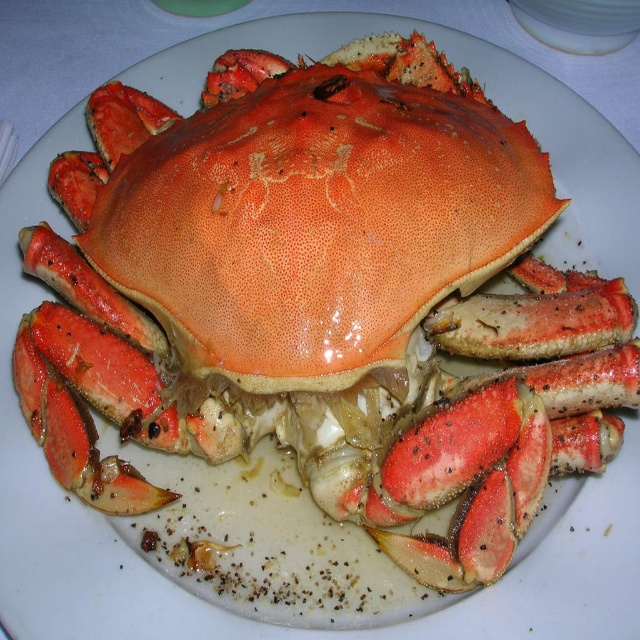Crab: (13, 28, 640, 593)
